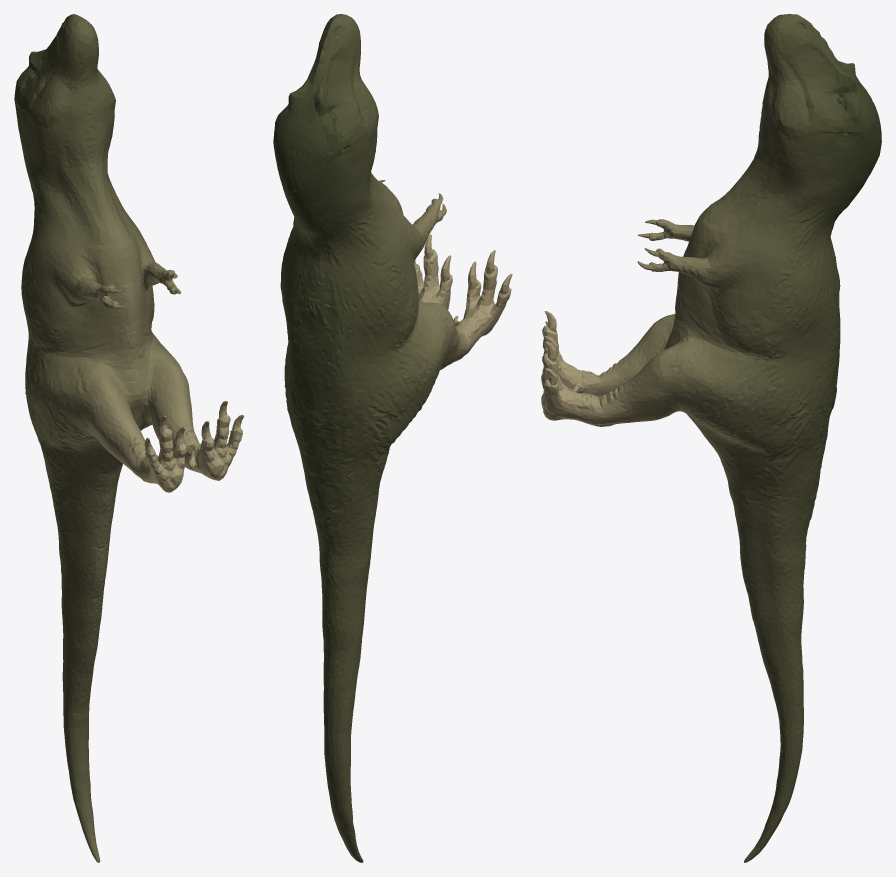
Rendered from daspletosaurus.glb.
3 views of the same model, side by side, from view 1: azimuth 30°, elevation 25°; view 2: azimuth 150°, elevation 25°; view 3: azimuth 270°, elevation 25° (orthographic). The views are drawn at different scales.
Visible parts, largest first — view 1: daspletosaurus-unposed; view 2: daspletosaurus-unposed; view 3: daspletosaurus-unposed.
Boxes of the visible parts, x1,y1,x2,y2 form: daspletosaurus-unposed: (14,14,244,862); daspletosaurus-unposed: (273,14,512,862); daspletosaurus-unposed: (541,14,881,862).
Bounding box in the file's own units: 22.04 × 139 × 50.59.
